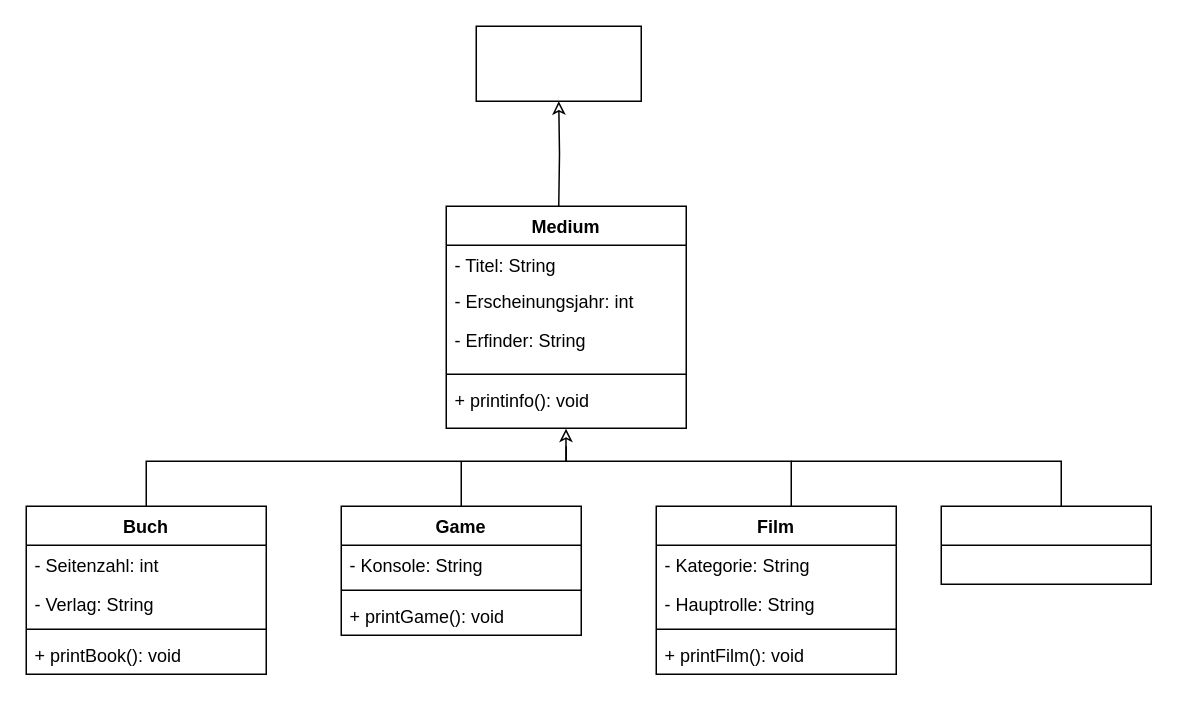
Some shapes in this 1178 by 705 pixel diagram are drawn without their labels. The centre of each missing label's shape, as x and y in pixels:
"CD" belongs at (1045,544).
"Object" belongs at (558,63).
